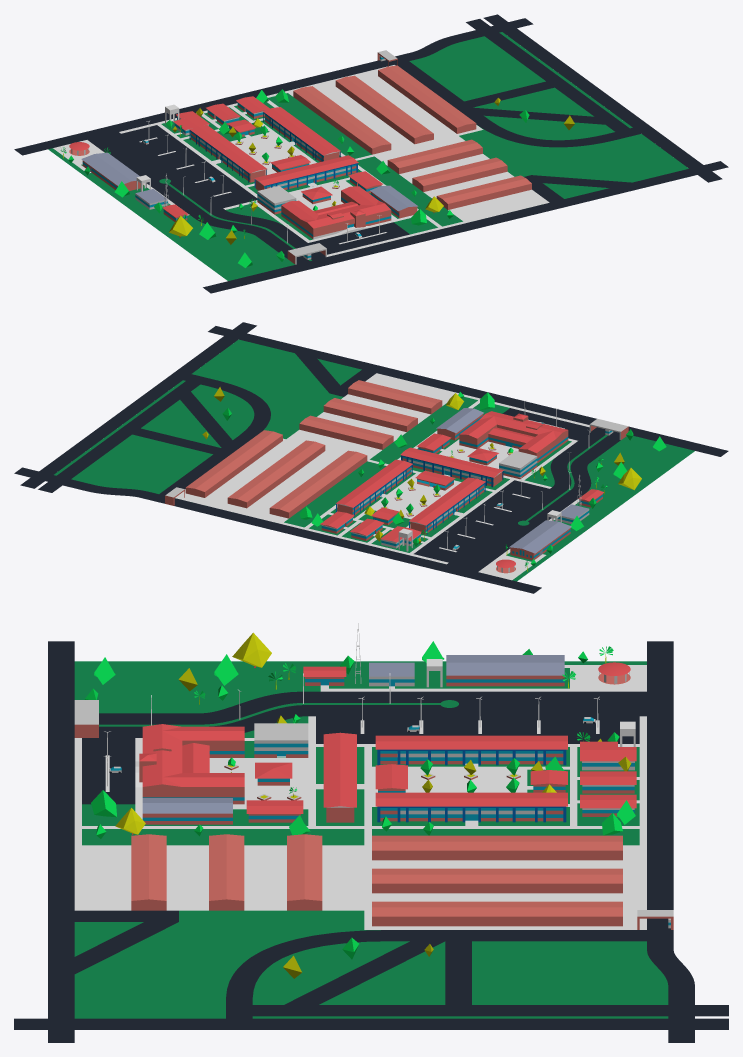
File: cmrt.glb
The picture shows the model from 3 angles, top to bottom: view 1: azimuth 30°, elevation 25°; view 2: azimuth 150°, elevation 25°; view 3: azimuth 270°, elevation 25°; orthographic projection. The views are drawn at different scales.
Parts seen in each view (by area): view 1: cmrtmetre.000_greenbase, cmrtmebui.000_Usina 1, cmrtmebui.000_Usina 2, cmrtmeroa.010, cmrtmepar.001, cmrtmepav.018, cmrtmeroa.006, cmrtmepav.019, cmrtmeroa.013, cmrtmeroa.015, cmrtmebui.001, cmrtmeroa (+25 smaller); view 2: cmrtmetre.000_greenbase, cmrtmebui.000_Usina 1, cmrtmebui.000_Usina 2, cmrtmeroa.010, cmrtmepar.001, cmrtmeroa.006, cmrtmepav.019, cmrtmepav.018, cmrtmeroa.013, cmrtmeroa.015, cmrtmeroa, cmrtmebui.001 (+31 smaller); view 3: cmrtmetre.000_greenbase, cmrtmebui.000_Usina 1, cmrtmepav.018, cmrtmeroa.010, cmrtmebui.000_Usina 2, cmrtmeroa.006, cmrtmeroa.013, cmrtmepar.001, cmrtmepav.019, cmrtmebui.005, cmrtmebui.004, cmrtmeroa (+44 smaller).
Boxes of the visible parts, box(x1,y1,x2,y2) form: cmrtmetre.000_greenbase: box(48, 32, 688, 280); cmrtmebui.000_Usina 1: box(293, 65, 476, 154); cmrtmebui.000_Usina 2: box(387, 139, 531, 209); cmrtmeroa.010: box(203, 161, 728, 293); cmrtmepar.001: box(121, 125, 257, 208); cmrtmepav.018: box(375, 136, 546, 221); cmrtmeroa.006: box(14, 52, 419, 155); cmrtmepav.019: box(288, 71, 476, 149); cmrtmeroa.013: box(503, 28, 703, 168); cmrtmeroa.015: box(485, 32, 629, 131); cmrtmebui.001: box(254, 155, 358, 190); cmrtmeroa: box(87, 132, 181, 185); cmrtmetre.000_greenbase: box(54, 339, 694, 581); cmrtmebui.000_Usina 1: box(185, 430, 367, 518); cmrtmebui.000_Usina 2: box(299, 380, 442, 449); cmrtmeroa.010: box(208, 326, 728, 456); cmrtmepar.001: box(414, 480, 549, 562); cmrtmeroa.006: box(140, 491, 541, 593); cmrtmepav.019: box(180, 441, 341, 522); cmrtmepav.018: box(286, 375, 453, 459); cmrtmeroa.013: box(39, 336, 238, 474); cmrtmeroa.015: box(57, 381, 200, 479); cmrtmeroa: box(447, 518, 537, 571); cmrtmebui.001: box(400, 447, 503, 487); cmrtmetre.000_greenbase: box(74, 661, 668, 1018); cmrtmebui.000_Usina 1: box(372, 835, 622, 926); cmrtmepav.018: box(82, 845, 364, 910); cmrtmeroa.010: box(48, 641, 74, 1042); cmrtmebui.000_Usina 2: box(131, 834, 322, 910); cmrtmeroa.006: box(647, 641, 673, 949); cmrtmeroa.013: box(74, 1018, 668, 1029); cmrtmepar.001: box(316, 716, 639, 743); cmrtmepav.019: box(372, 845, 639, 926); cmrtmebui.005: box(375, 792, 567, 825); cmrtmebui.004: box(375, 735, 567, 766); cmrtmeroa: box(446, 691, 646, 716).
Size of the model in its own units: 5.16 by 0.3637 by 3.89.
